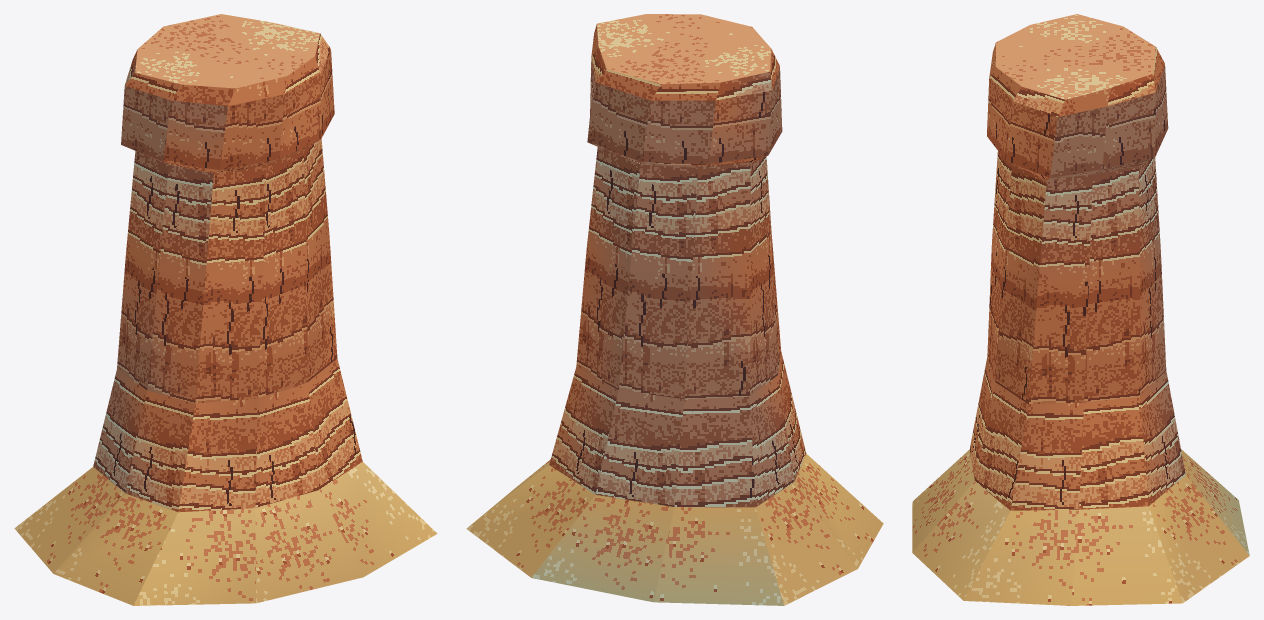
Rendered from wland.butte.glb.
3 views of the same model, side by side, from view 1: azimuth 30°, elevation 25°; view 2: azimuth 150°, elevation 25°; view 3: azimuth 270°, elevation 25° (orthographic).
Parts seen in each view (by area): view 1: kit_butte; view 2: kit_butte; view 3: kit_butte.
Boxes of the visible parts, x1,y1,x2,y2 form: kit_butte: [14, 14, 437, 605]; kit_butte: [466, 14, 883, 605]; kit_butte: [912, 14, 1249, 605].
Bounding box in the file's own units: 10.41 × 14 × 9.12.
4 materials, 4 textured.
